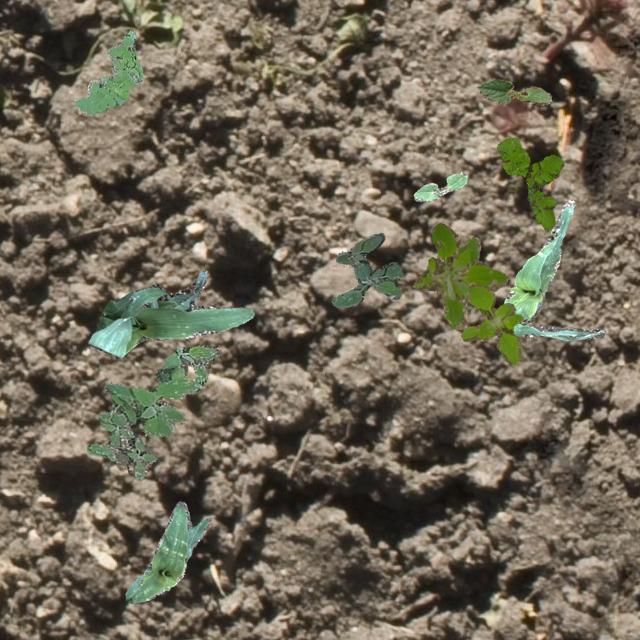crop: (88, 270, 254, 356), (504, 198, 604, 339), (125, 500, 211, 602), (476, 78, 550, 105), (412, 170, 466, 200)
weed: (86, 344, 220, 479), (412, 222, 508, 328), (496, 137, 562, 230), (72, 29, 142, 114), (330, 232, 402, 306), (460, 282, 522, 364)
